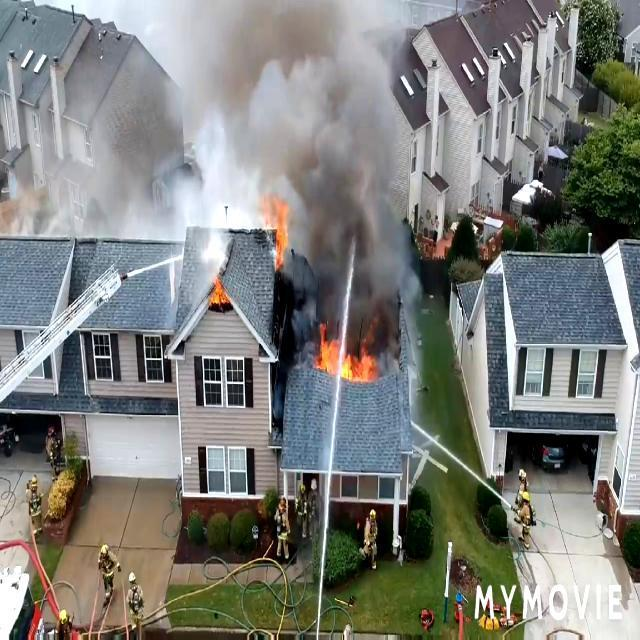Fire: (311, 323, 375, 386), (270, 210, 290, 268), (206, 270, 232, 312)
Smoke: (43, 0, 284, 234), (266, 0, 406, 345)
